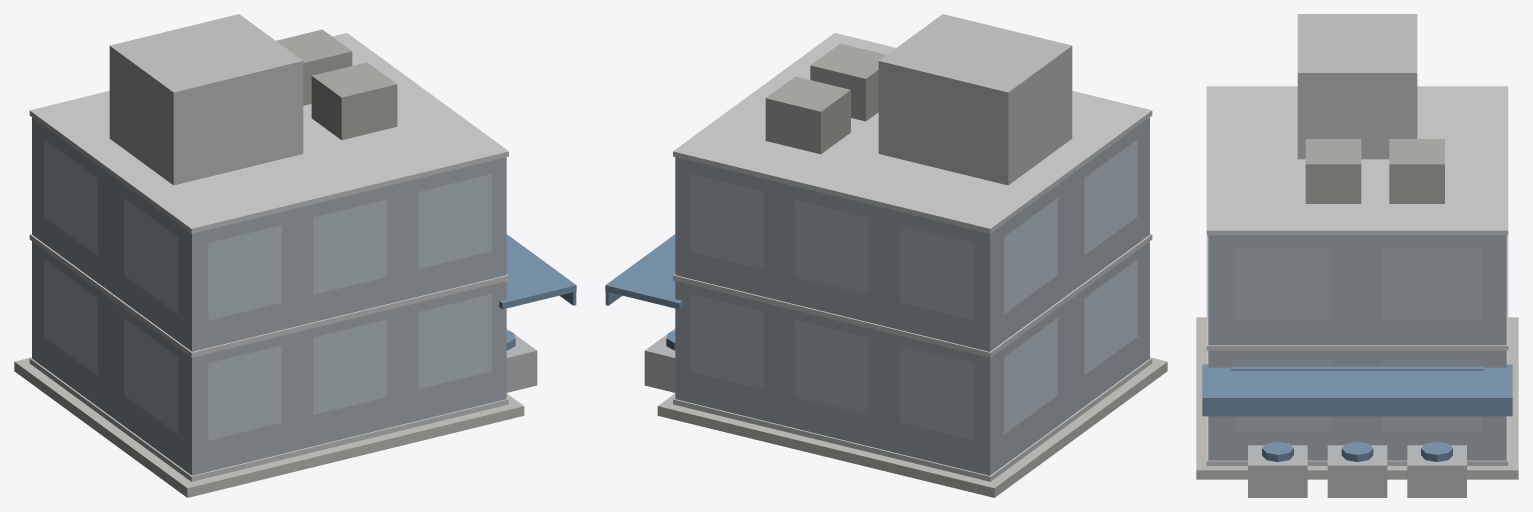
File: 12_food_market-03.glb
The picture shows the model from 3 angles, left to right: view 1: azimuth 30°, elevation 25°; view 2: azimuth 150°, elevation 25°; view 3: azimuth 270°, elevation 25°; orthographic projection. The views are drawn at different scales.
Size of the model in its own units: 10.6 by 9.18 by 8.1.
